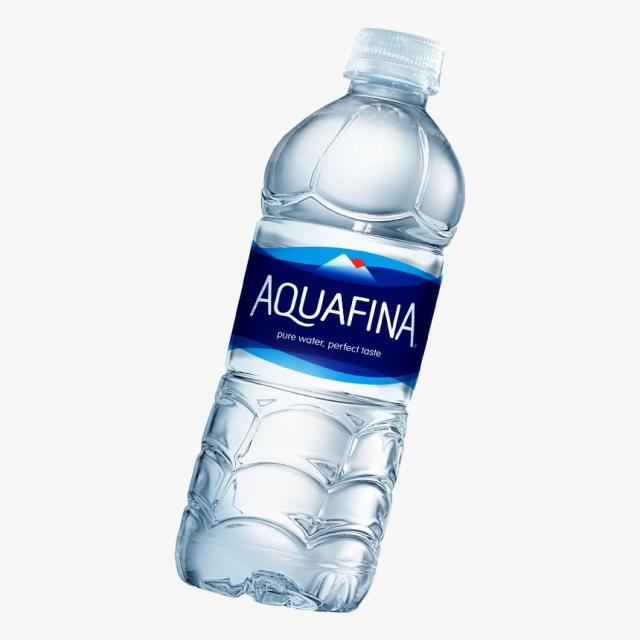bottle: (193, 8, 463, 620)
